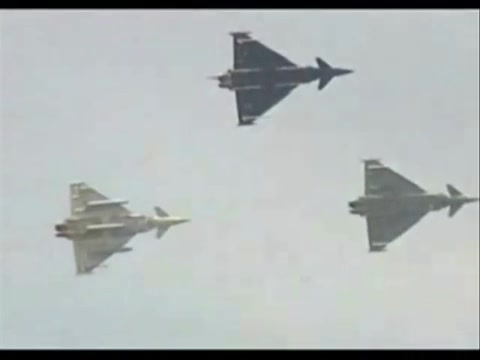aeroplane: (52, 180, 192, 278)
